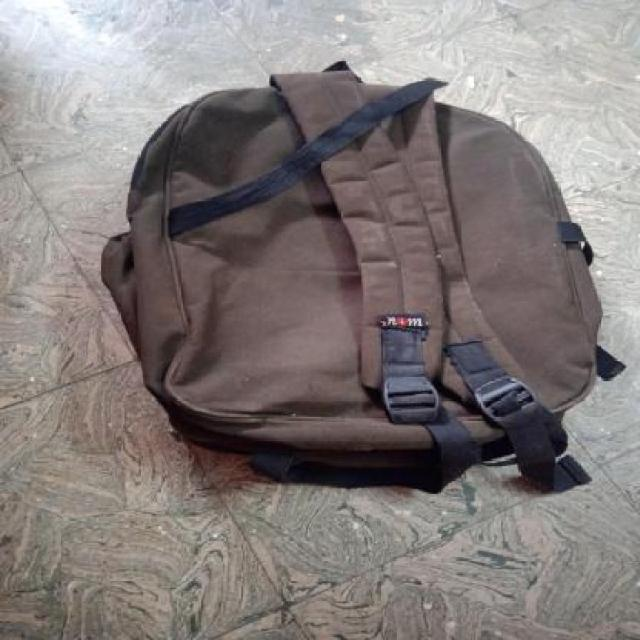backpack: (97, 55, 628, 500)
